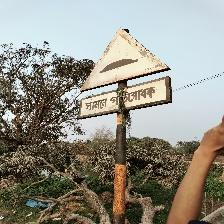Speed-breaker: (77, 28, 172, 118)
